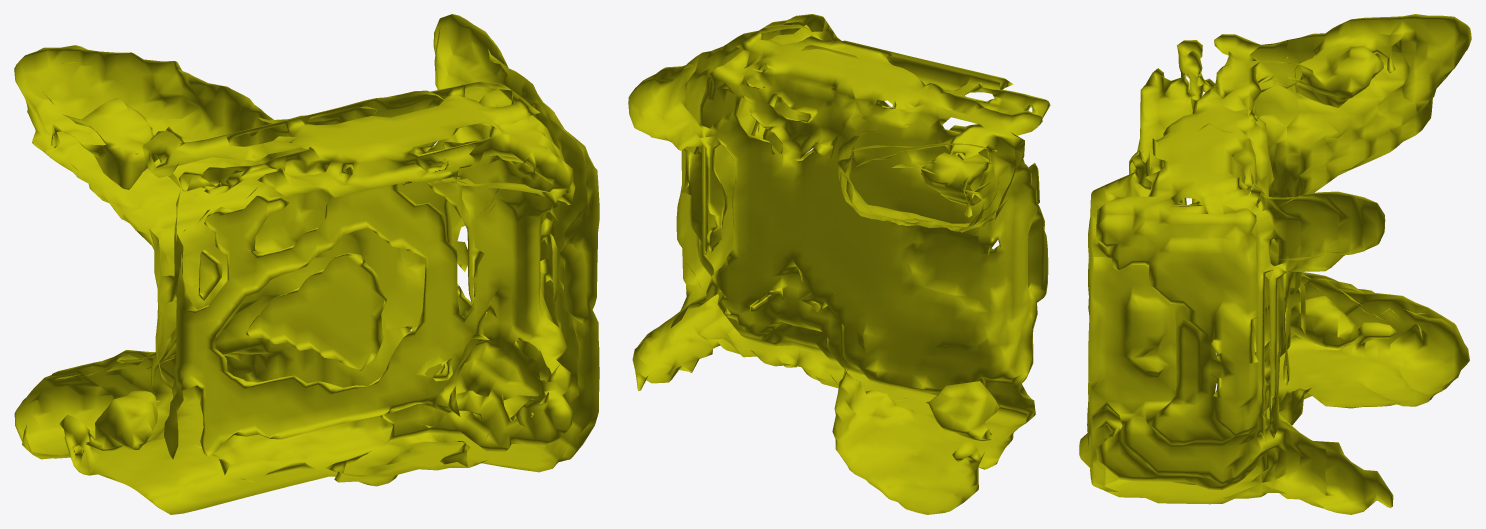
3 views of the same model, side by side, from view 1: azimuth 30°, elevation 25°; view 2: azimuth 150°, elevation 25°; view 3: azimuth 270°, elevation 25° (orthographic). The views are drawn at different scales.
Parts seen in each view (by area): view 1: world; view 2: world; view 3: world.
Boxes of the visible parts, x1=… form: world: x1=14, y1=14, x2=599, y2=514; world: x1=628, y1=14, x2=1050, y2=514; world: x1=1079, y1=14, x2=1471, y2=514.
Size of the model in its own units: 35.07 by 30.76 by 30.48.
